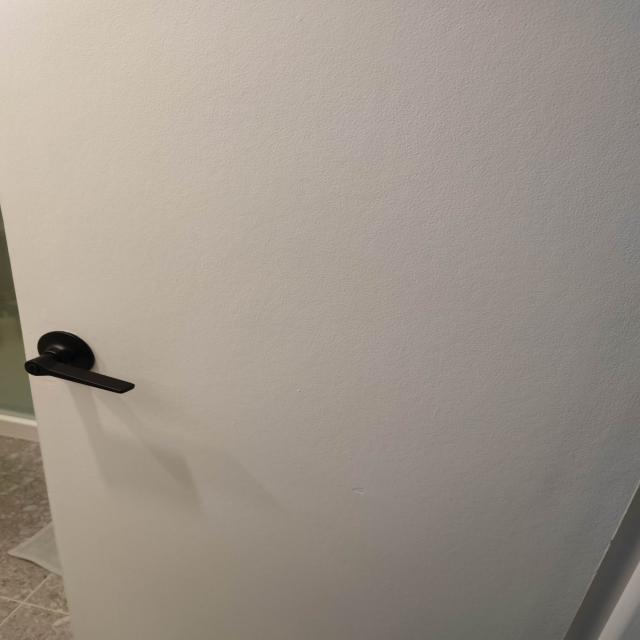door-handle: (25, 331, 135, 394)
